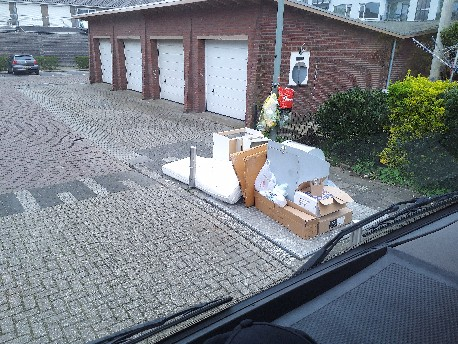Container: (276, 139, 330, 185)
Papier: (255, 188, 325, 231), (234, 152, 270, 209), (294, 185, 344, 212), (222, 138, 254, 169), (310, 208, 357, 217)
Rest: (176, 150, 231, 194)
Voertuig: (7, 50, 44, 79)
